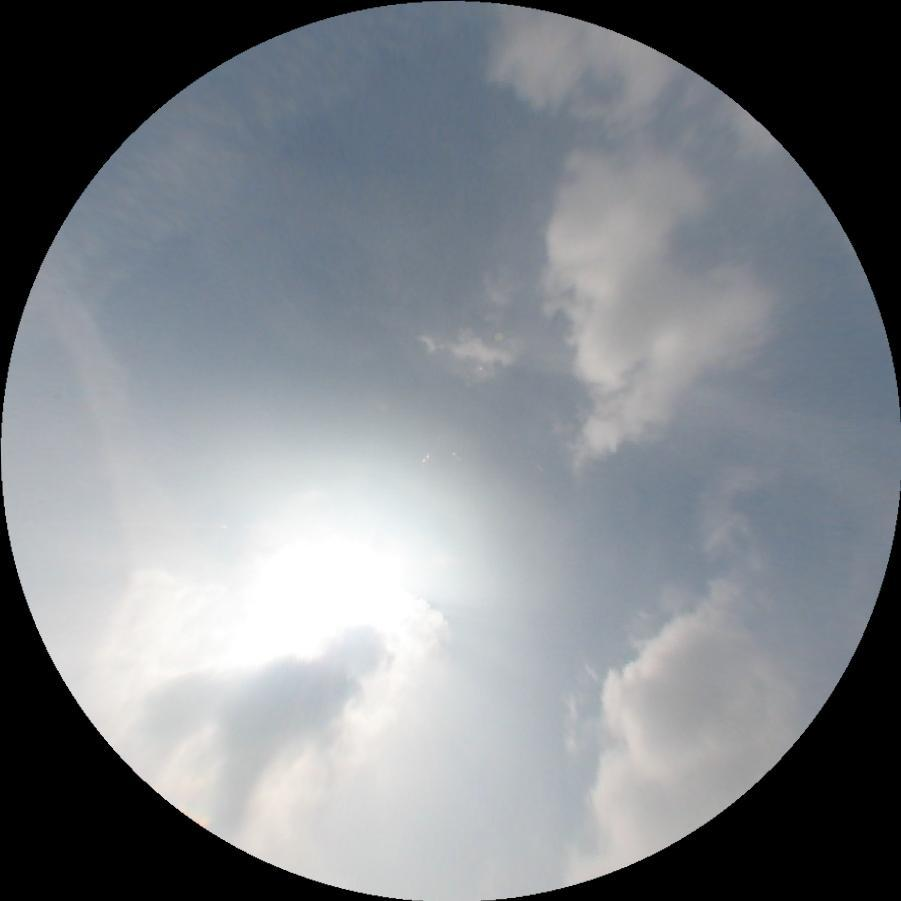sun: (253, 533, 426, 639)
